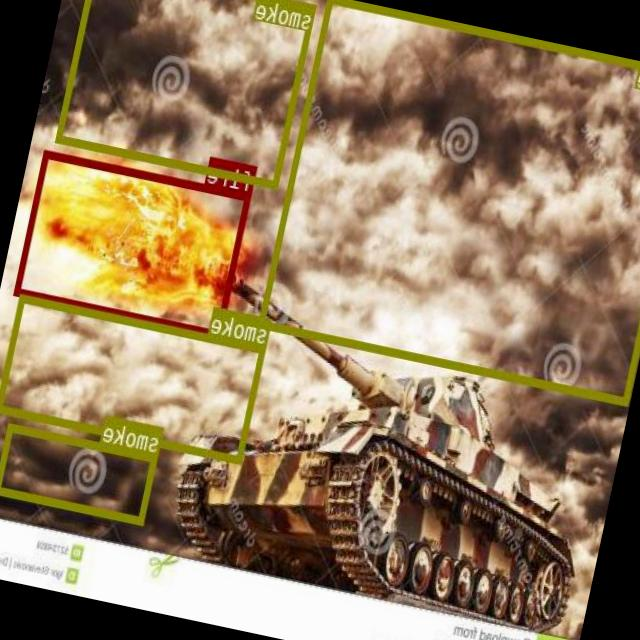fire: (15, 148, 252, 338)
smoke: (260, 0, 640, 403), (55, 0, 317, 187), (0, 293, 267, 462), (0, 421, 159, 523)
